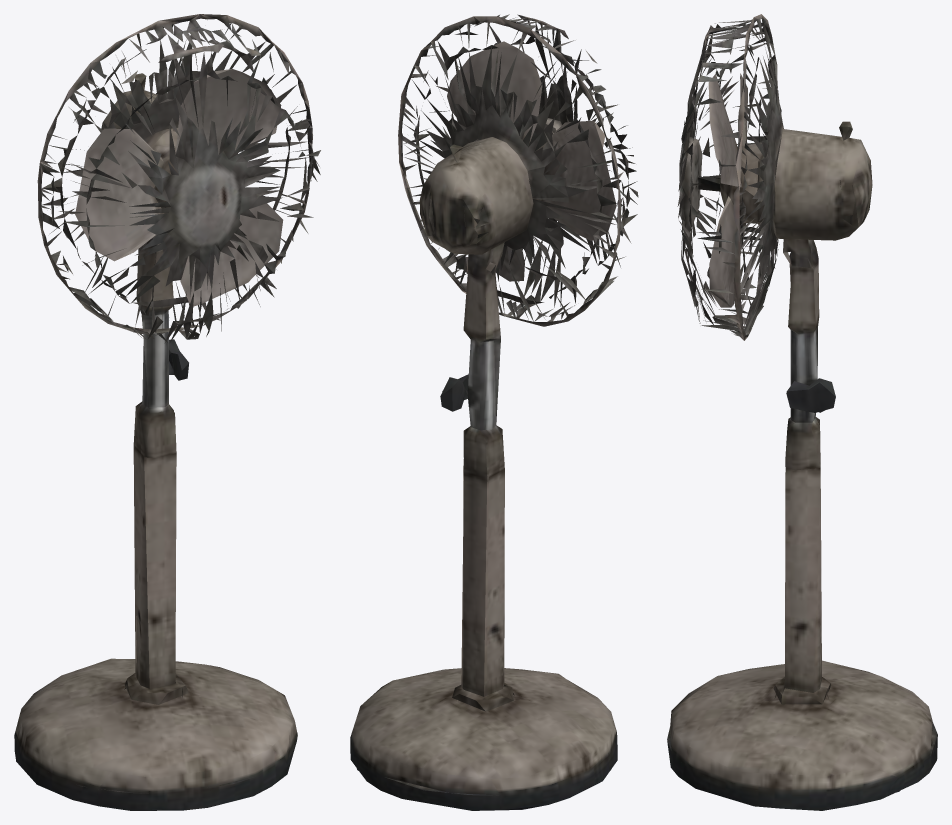
The model's file is p7-pedestal-fan.glb.
3 views of the same model, side by side, from view 1: azimuth 30°, elevation 25°; view 2: azimuth 150°, elevation 25°; view 3: azimuth 270°, elevation 25° (orthographic). The views are drawn at different scales.
Visible parts, largest first — view 1: p7-pedestal-fan; view 2: p7-pedestal-fan; view 3: p7-pedestal-fan.
Part boxes in pixels (x1=…): p7-pedestal-fan: x1=14, y1=14, x2=320, y2=810; p7-pedestal-fan: x1=350, y1=14, x2=638, y2=810; p7-pedestal-fan: x1=667, y1=14, x2=937, y2=810.
Size of the model in its own units: 0.4559 by 1.3 by 0.4382.
Materials: 1 (1 with a texture image).
